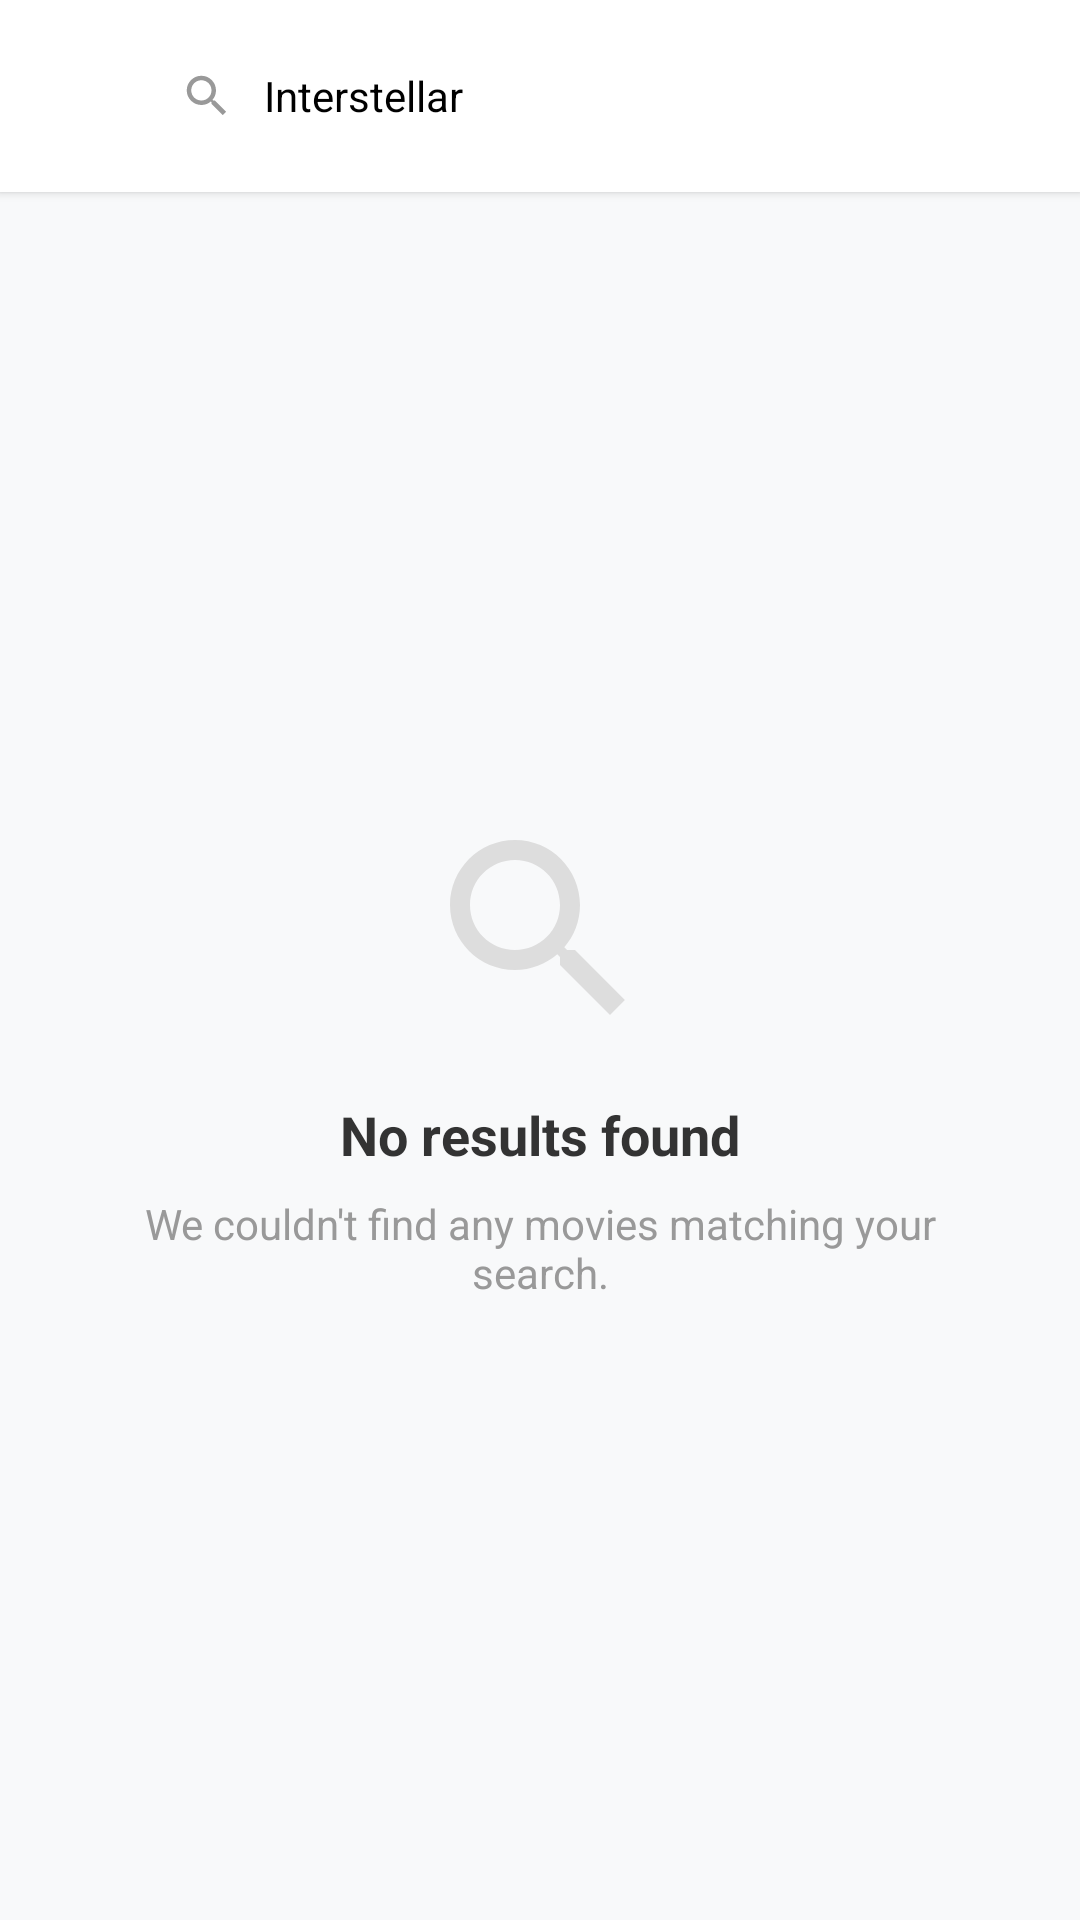

Screen size 1080w x 1920h. Icon name, then its box in pixels as box=[x1, y1, x2, y2]:
Search icon: box=[186, 75, 226, 115]
